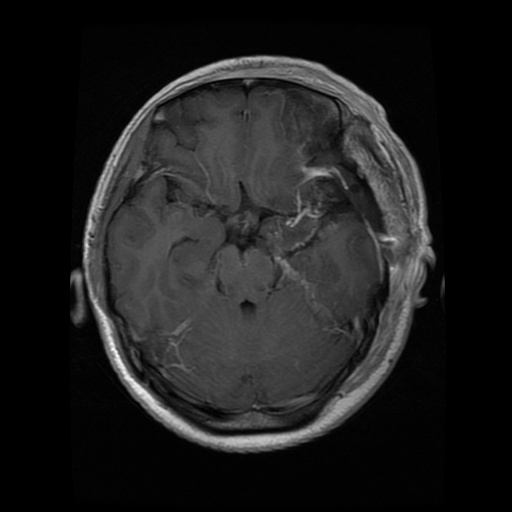glioma: (267, 168, 383, 321)
